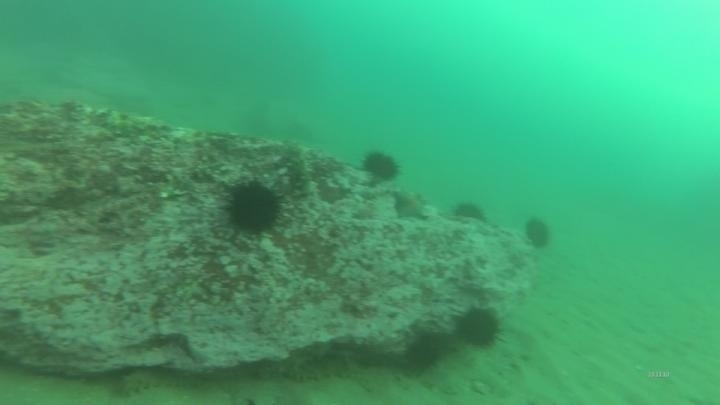echinus: (220, 176, 287, 238), (452, 303, 505, 350), (401, 328, 448, 376), (360, 147, 403, 184), (521, 215, 555, 252), (450, 198, 488, 226)
holothurian: (109, 354, 219, 398), (274, 350, 363, 386), (281, 139, 321, 207)
starfish: (389, 187, 431, 223)
